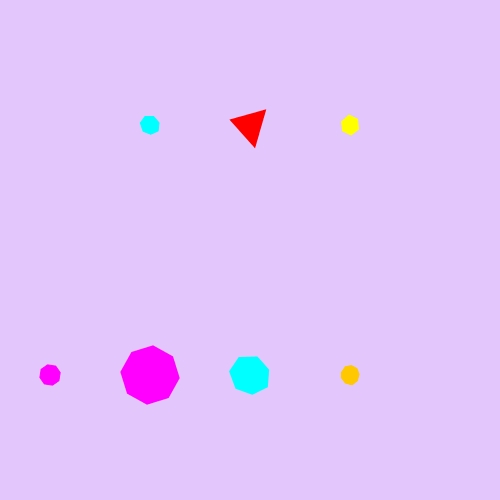heptagon: (226, 352, 274, 398), (136, 111, 165, 139)
hexagon: (335, 112, 365, 138)
nonagon: (336, 361, 365, 389)
octagon: (117, 342, 183, 408), (35, 360, 66, 391)
triangle: (229, 103, 271, 147)
